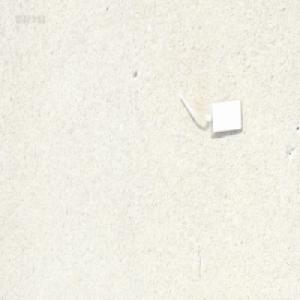LuggageTag: (173, 94, 243, 136)
